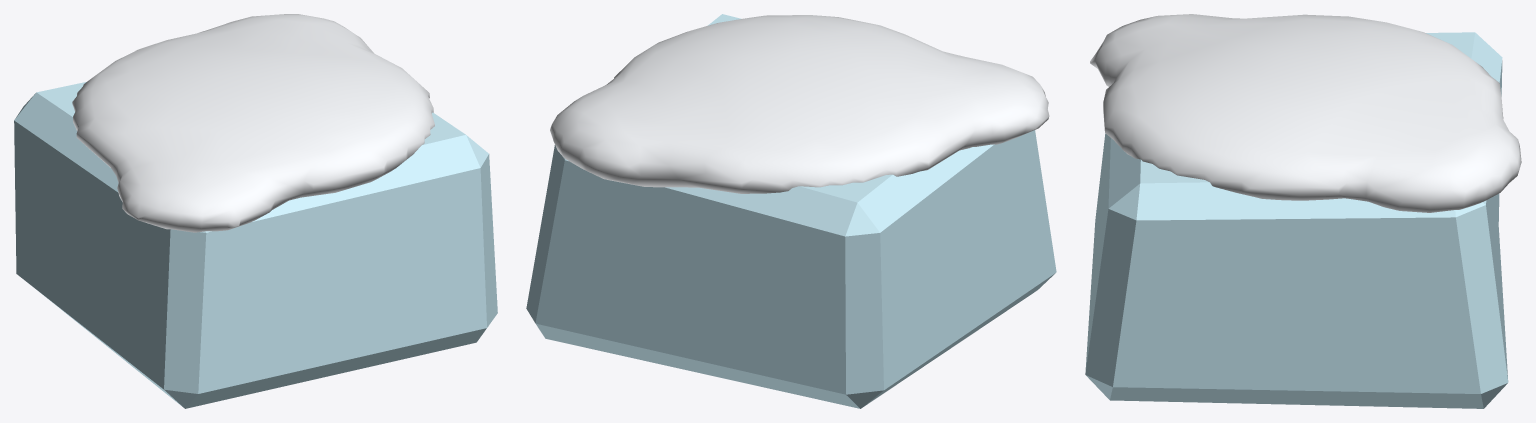
Rendered from ice_pedestal.glb.
3 renders of one model, left to right at view 1: azimuth 30°, elevation 25°; view 2: azimuth 150°, elevation 25°; view 3: azimuth 270°, elevation 25°, orthographic. The views are drawn at different scales.
Visible parts, largest first — view 1: IceBlock, BlockSnow; view 2: IceBlock, BlockSnow; view 3: IceBlock, BlockSnow.
Boxes of the visible parts, x1,y1,x2,y2 form: IceBlock: [14, 82, 497, 408]; BlockSnow: [72, 14, 434, 232]; IceBlock: [526, 14, 1056, 408]; BlockSnow: [550, 15, 1049, 193]; IceBlock: [1085, 32, 1508, 408]; BlockSnow: [1090, 14, 1521, 212].
Size of the model in its own units: 1.12 by 0.7074 by 1.08.
